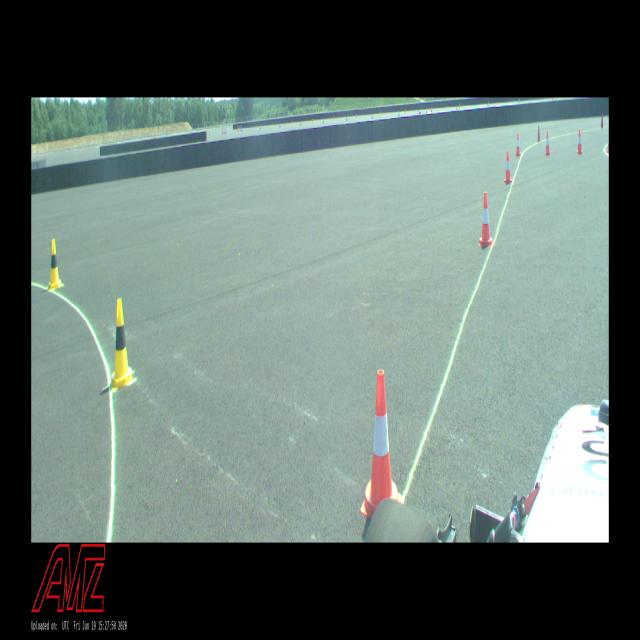orange_cone: (361, 369, 402, 519), (478, 191, 492, 247), (504, 151, 512, 184), (576, 129, 583, 154), (545, 131, 551, 155), (515, 133, 521, 156)
yellow_cone: (110, 299, 132, 390), (48, 238, 61, 290)
